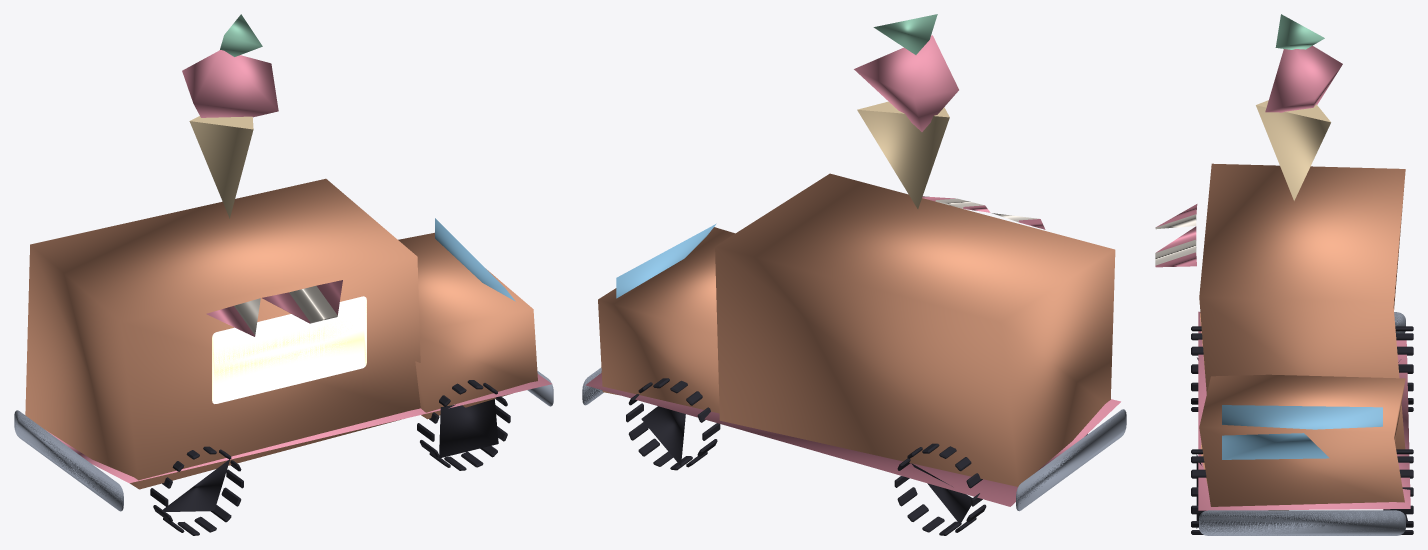
File: icecream_van.glb
3 views of the same model, side by side, from view 1: azimuth 30°, elevation 25°; view 2: azimuth 150°, elevation 25°; view 3: azimuth 270°, elevation 25° (orthographic). The views are drawn at different scales.
Visible parts, largest first — view 1: icecream_van; view 2: icecream_van; view 3: icecream_van.
Boxes of the visible parts, x1,y1,x2,y2 form: icecream_van: (14, 14, 553, 535); icecream_van: (582, 14, 1126, 535); icecream_van: (1155, 14, 1413, 535).
Bounding box in the file's own units: 5 × 4.98 × 2.76.
Materials: 1 (1 with a texture image).
